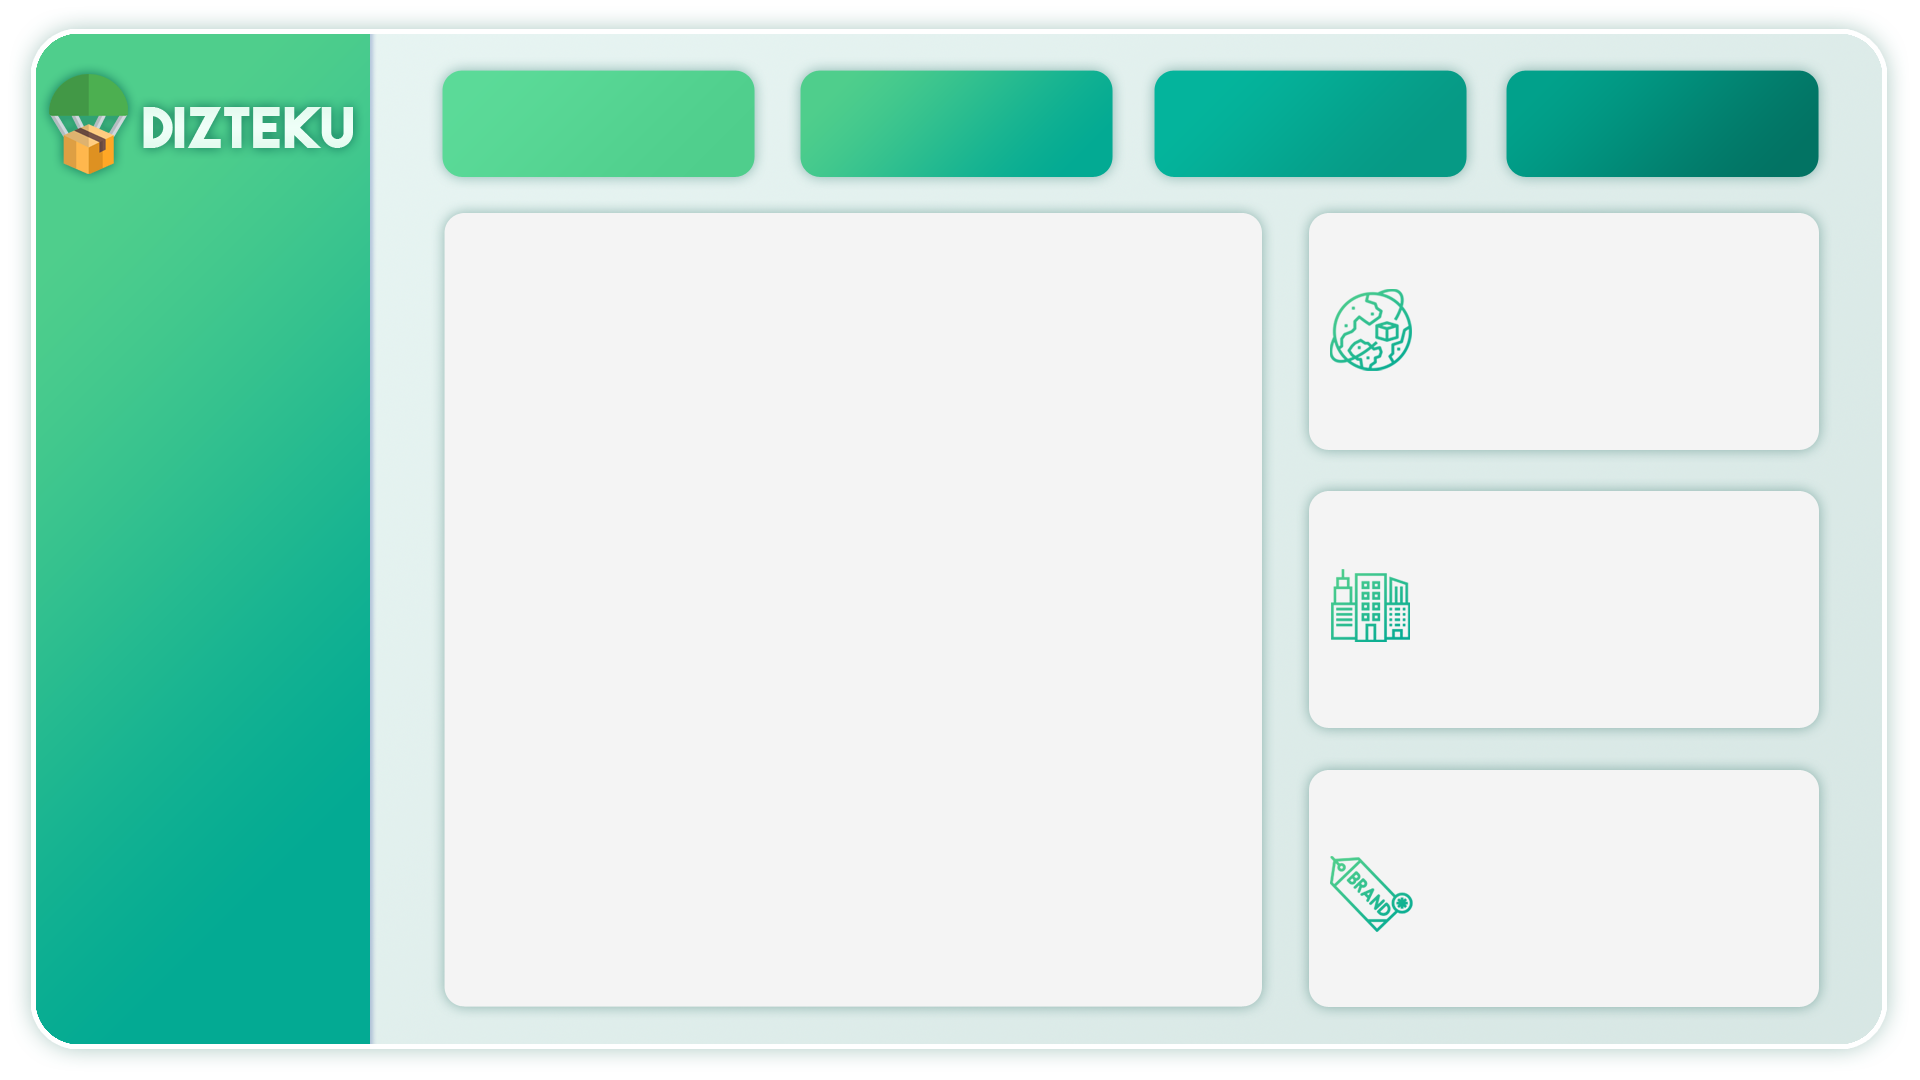

The dashboard page shown, as its layout file describes it:
{"tool":"powerbi","page":{"name":"Página 1","canvas":[1280,720],"ordinal":0},"visuals":[{"type":"slicer","fields":{"Values":["Resumen Financiero.Fecha.Variación.Jerarquía de fechas.Año"]},"box":[34.6,221.2,197.1,76.9],"z":0},{"type":"columnChart","fields":{"Category":["Resumen Financiero.Fecha.Variación.Jerarquía de fechas.Mes"],"Y":["Resumen Financiero.Beneficios Totales"]},"box":[305.8,151,518.3,188.5],"z":1000},{"type":"tableEx","fields":{"Values":["Resumen Financiero.Fecha.Variación.Jerarquía de fechas.Año","Resumen Financiero.Fecha.Variación.Jerarquía de fechas.Mes","Resumen Financiero.Ingresos Totales","Resumen Financiero.Gastos Totales","Resumen Financiero.Beneficios Totales","Resumen Financiero.% Margen"]},"box":[305.8,339.5,527,319.3],"z":2000},{"type":"card","fields":{"Values":["Resumen Financiero.Beneficios Totales"]},"box":[746.3,17.3,252,120.2],"z":3000},{"type":"card","fields":{"Values":["Resumen Financiero.% Margen"]},"box":[998.2,17.3,236.6,120.2],"z":4000},{"type":"card","fields":{"Values":["Resumen Financiero.Gastos Totales"]},"box":[497.2,17.3,285.6,120.2],"z":5000},{"type":"card","fields":{"Values":["Resumen Financiero.Ingresos Totales"]},"box":[269.3,34.6,255.8,85.6],"z":6000},{"type":"slicer","fields":{"Values":["Resumen Financiero.Segmento"]},"box":[35.6,436.6,197.1,76],"z":7000},{"type":"slicer","fields":{"Values":["Resumen Financiero.País"]},"box":[34.6,321.2,197.1,76.9],"z":8000},{"type":"slicer","fields":{"Values":["Resumen Financiero.Marca"]},"box":[35.6,533.7,197.1,69.2],"z":9000},{"type":"tableEx","fields":{"Values":["Resumen Financiero.País","Resumen Financiero.Beneficios Totales","Resumen Financiero.% Margen"]},"box":[948.2,148.1,253.9,145.2],"z":10000},{"type":"tableEx","fields":{"Values":["Resumen Financiero.Segmento","Resumen Financiero.Beneficios Totales","Resumen Financiero.% Margen"]},"box":[948.2,328.9,253.9,146.2],"z":11000},{"type":"tableEx","fields":{"Values":["Resumen Financiero.Marca","Resumen Financiero.Beneficios Totales","Resumen Financiero.% Margen"]},"box":[948.2,515.5,253.9,143.3],"z":12000},{"type":"textbox","box":[28.9,126.9,210.6,79.8],"z":13000}]}

Visuals, with their boxes in screenshot pixels (x1, y1, x2, y2), scaled from the page's 1280x720 canvas onto the 1920x1080 screenshot:
slicer - Resumen Financiero.Fecha.Variación.Jerarquía de fechas.Año: <region>52, 332, 348, 447</region>
columnChart - Resumen Financiero.Fecha.Variación.Jerarquía de fechas.Mes x Resumen Financiero.Beneficios Totales: <region>459, 226, 1236, 509</region>
tableEx - Resumen Financiero.Fecha.Variación.Jerarquía de fechas.Año x Resumen Financiero.Fecha.Variación.Jerarquía de fechas.Mes: <region>459, 509, 1249, 988</region>
card - Resumen Financiero.Beneficios Totales: <region>1119, 26, 1497, 206</region>
card - Resumen Financiero.% Margen: <region>1497, 26, 1852, 206</region>
card - Resumen Financiero.Gastos Totales: <region>746, 26, 1174, 206</region>
card - Resumen Financiero.Ingresos Totales: <region>404, 52, 788, 180</region>
slicer - Resumen Financiero.Segmento: <region>53, 655, 349, 769</region>
slicer - Resumen Financiero.País: <region>52, 482, 348, 597</region>
slicer - Resumen Financiero.Marca: <region>53, 801, 349, 904</region>
tableEx - Resumen Financiero.País x Resumen Financiero.Beneficios Totales: <region>1422, 222, 1803, 440</region>
tableEx - Resumen Financiero.Segmento x Resumen Financiero.Beneficios Totales: <region>1422, 493, 1803, 713</region>
tableEx - Resumen Financiero.Marca x Resumen Financiero.Beneficios Totales: <region>1422, 773, 1803, 988</region>
textbox: <region>43, 190, 359, 310</region>
